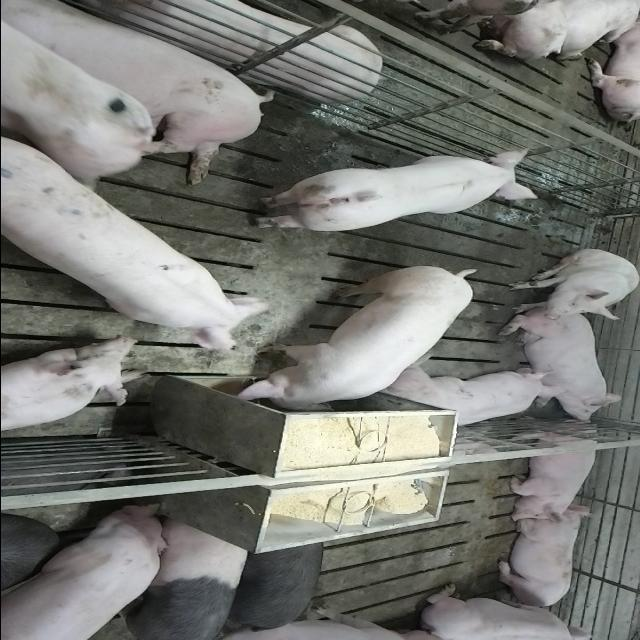Feeding: (227, 270, 477, 420)
Lateral_lying: (59, 0, 382, 102)
Sitting: (503, 249, 638, 319)
Standing: (0, 132, 274, 362), (0, 4, 238, 189), (243, 150, 533, 233), (0, 502, 174, 638), (79, 515, 251, 638), (219, 536, 325, 636)
Sternal_lying: (0, 337, 145, 437), (502, 314, 628, 424), (382, 367, 562, 430), (416, 584, 604, 638), (502, 425, 604, 523), (491, 509, 588, 610)
